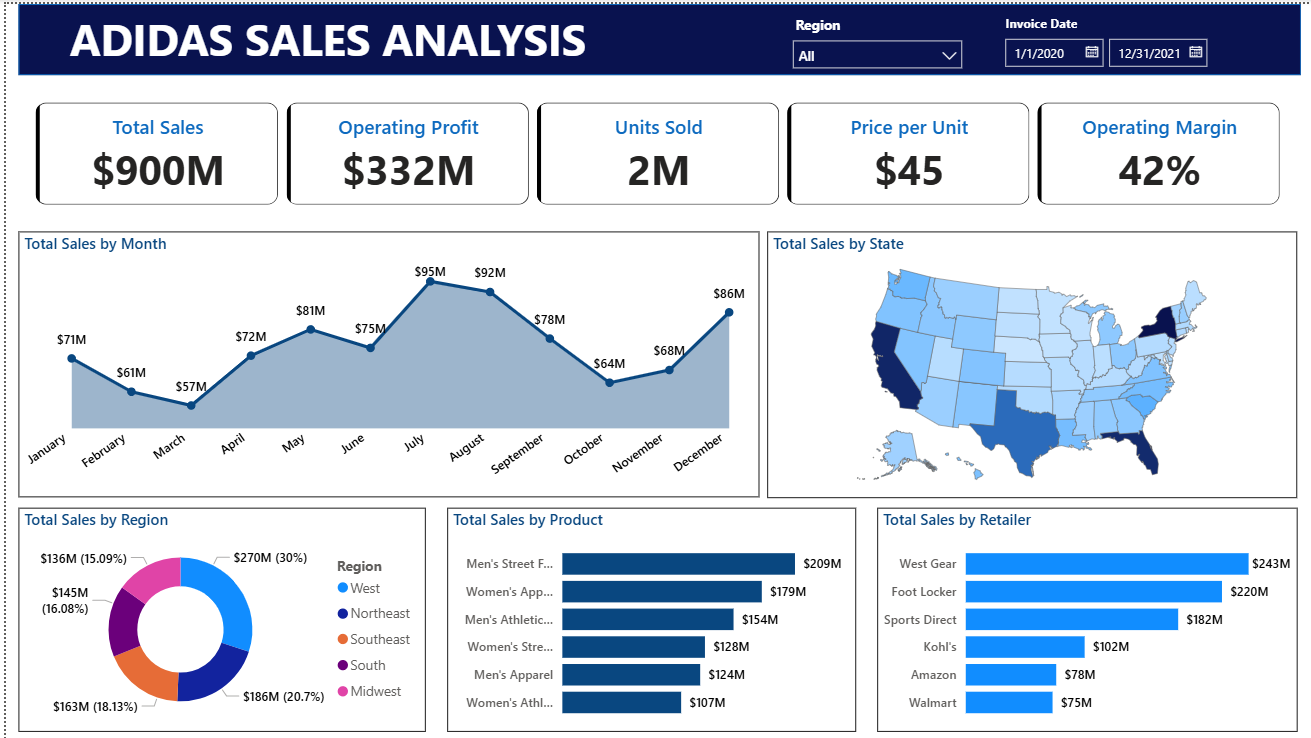

The dashboard page shown, as its layout file describes it:
{"tool":"powerbi","page":{"name":"Page 1","canvas":[1280,720],"ordinal":0},"visuals":[{"type":"shape","box":[12.2,0,1254.6,69.7],"z":0},{"type":"textbox","box":[34.2,0,561.3,67.3],"z":1000},{"type":"cardVisual","fields":{"Data":["Sum(Data Sales Adidas.Total Sales)","Sum(Data Sales Adidas.Operating Profit)","Sum(Data Sales Adidas.Units Sold)","Avg(Data Sales Adidas.Price per Unit)","Avg(Data Sales Adidas.Operating Margin)"]},"box":[12.2,79.5,1254.6,134.5],"z":2000},{"type":"areaChart","title":"Total Sales by Month","fields":{"Category":["Data Sales Adidas.Invoice Date.Variation.Date Hierarchy.Month"],"Y":["Sum(Data Sales Adidas.Total Sales)"]},"box":[12.2,222.6,725,260],"z":3000},{"type":"shapeMap","title":"Total Sales by State","fields":{"Category":["Data Sales Adidas.State"],"Value":["Sum(Data Sales Adidas.Total Sales)"]},"box":[744.7,222.6,518.5,260.5],"z":4000},{"type":"donutChart","title":"Total Sales by Region","fields":{"Category":["Data Sales Adidas.Region"],"Y":["Sum(Data Sales Adidas.Total Sales)"]},"box":[12.2,492.8,398.6,218.9],"z":5000},{"type":"barChart","title":"Total Sales by Product","fields":{"Category":["Data Sales Adidas.Product"],"Y":["Sum(Data Sales Adidas.Total Sales)"]},"box":[431.7,492.8,399.9,218.9],"z":6000},{"type":"barChart","title":"Total Sales by Retailer","fields":{"Y":["Sum(Data Sales Adidas.Total Sales)"],"Category":["Data Sales Adidas.Retailer"]},"box":[852.3,492.8,410.9,218.9],"z":7000},{"type":"slicer","fields":{"Values":["Data Sales Adidas.Region"]},"box":[759.4,6.1,185.9,58.7],"z":8000},{"type":"slicer","fields":{"Values":["Data Sales Adidas.Invoice Date"]},"box":[964.8,6.1,223.8,58.7],"z":9000}]}

Visuals, with their boxes in screenshot pixels (x1, y1, x2, y2), scaled from the page's 1280x720 canvas onto the 1311x738 screenshot:
shape: {"left": 12, "top": 0, "right": 1297, "bottom": 71}
textbox: {"left": 35, "top": 0, "right": 610, "bottom": 69}
cardVisual - Sum(Data Sales Adidas.Total Sales) x Sum(Data Sales Adidas.Operating Profit): {"left": 12, "top": 81, "right": 1297, "bottom": 219}
"Total Sales by Month" areaChart: {"left": 12, "top": 228, "right": 755, "bottom": 495}
"Total Sales by State" shapeMap: {"left": 763, "top": 228, "right": 1294, "bottom": 495}
"Total Sales by Region" donutChart: {"left": 12, "top": 505, "right": 421, "bottom": 729}
"Total Sales by Product" barChart: {"left": 442, "top": 505, "right": 852, "bottom": 729}
"Total Sales by Retailer" barChart: {"left": 873, "top": 505, "right": 1294, "bottom": 729}
slicer - Data Sales Adidas.Region: {"left": 778, "top": 6, "right": 968, "bottom": 66}
slicer - Data Sales Adidas.Invoice Date: {"left": 988, "top": 6, "right": 1217, "bottom": 66}
